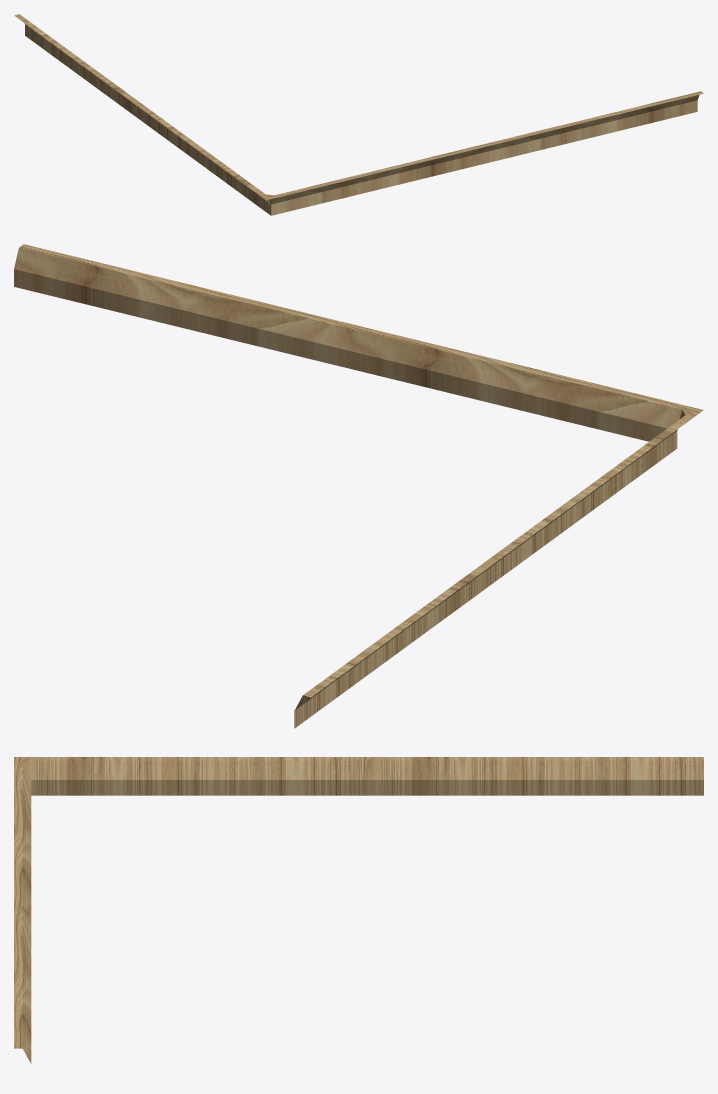
The model's file is SkirtingBoardGroundInnerCorner001.FBX.
The picture shows the model from 3 angles, top to bottom: view 1: azimuth 30°, elevation 25°; view 2: azimuth 150°, elevation 25°; view 3: azimuth 270°, elevation 25°; orthographic projection. The views are drawn at different scales.
Parts seen in each view (by area): view 1: SkirtingBoardGroundInnerCorner002; view 2: SkirtingBoardGroundInnerCorner002; view 3: SkirtingBoardGroundInnerCorner002.
Part boxes in pixels (x1=…): SkirtingBoardGroundInnerCorner002: x1=14, y1=14, x2=703, y2=215; SkirtingBoardGroundInnerCorner002: x1=14, y1=244, x2=703, y2=728; SkirtingBoardGroundInnerCorner002: x1=14, y1=757, x2=703, y2=1063.
Size of the model in its own units: 200 by 10 by 200.
